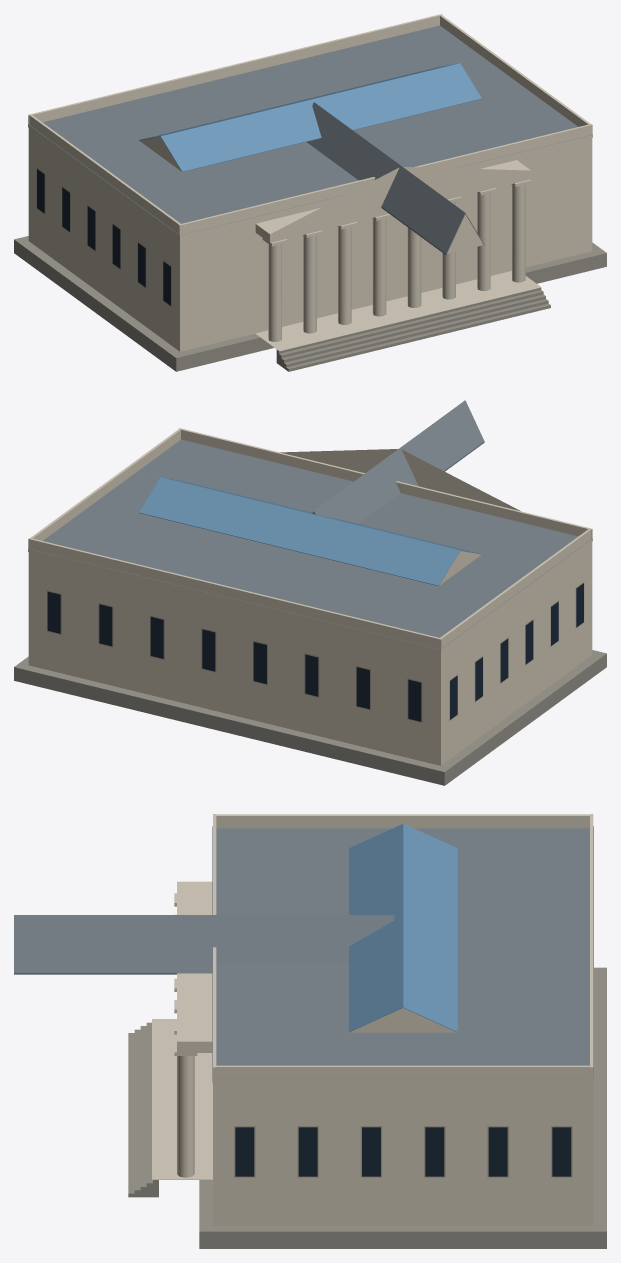
File: musee_classique.glb
3 renders of one model, top to bottom at view 1: azimuth 30°, elevation 25°; view 2: azimuth 150°, elevation 25°; view 3: azimuth 270°, elevation 25°, orthographic. The views are drawn at different scales.
Parts seen in each view (by area): view 1: musee_classique; view 2: musee_classique; view 3: musee_classique.
Part boxes in pixels (<box>): musee_classique: <box>14,14,606,371</box>; musee_classique: <box>14,400,606,785</box>; musee_classique: <box>14,814,606,1248</box>.
Bounding box in the file's own units: 46 × 16.38 × 43.65.
1 material, 1 textured.
